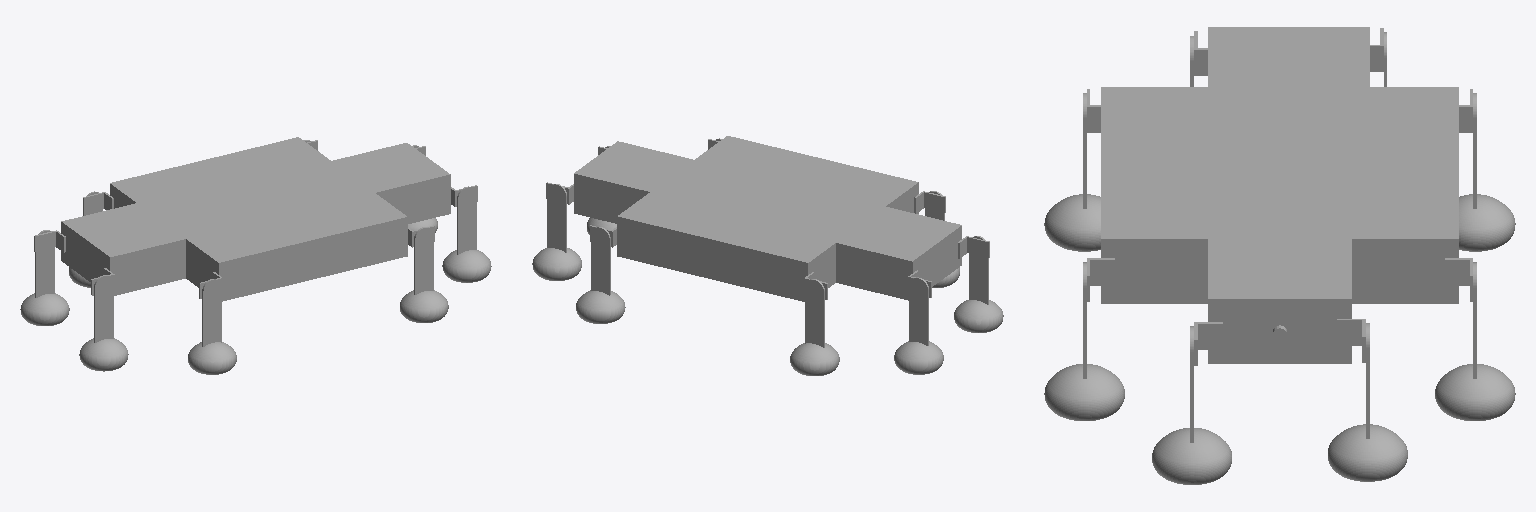
--- Render facts (derived) ---
Views: 3 orthographic renders of the robot side by side, from view 1: azimuth 30°, elevation 25°; view 2: azimuth 150°, elevation 25°; view 3: azimuth 270°, elevation 25°.
Robot: spider — 17 links, 16 joints (16 continuous); root link base_link; default pose: all joints at 0.
Links seen in each view (by area): view 1: base_link, Ncalf_5, Ncalf_4, Ncalf_6, Ncalf_1, Pcalf_4, Nlink_board_2; view 2: base_link, Pcalf_4, Pcalf_1, Pcalf_3, Pcalf_2, Ncalf_6, Plink_board_3, Plink_board_4; view 3: base_link, Pcalf_1, Pcalf_2, Ncalf_4, Ncalf_1, Ncalf_5, Pcalf_3, Nlink_board_3, Plink_board_1, Plink_board_2, Nlink_board_4.
Boxes of the visible links, x1=… form: base_link: x1=61, y1=137, x2=454, y2=301; Ncalf_5: x1=188, y1=279, x2=236, y2=374; Ncalf_4: x1=400, y1=227, x2=448, y2=322; Ncalf_6: x1=79, y1=275, x2=128, y2=371; Ncalf_1: x1=442, y1=186, x2=491, y2=282; Pcalf_4: x1=20, y1=230, x2=69, y2=325; Nlink_board_2: x1=34, y1=230, x2=65, y2=252; base_link: x1=569, y1=136, x2=961, y2=301; Pcalf_4: x1=894, y1=277, x2=943, y2=374; Pcalf_1: x1=532, y1=184, x2=581, y2=280; Pcalf_3: x1=790, y1=279, x2=839, y2=375; Pcalf_2: x1=576, y1=227, x2=625, y2=323; Ncalf_6: x1=954, y1=236, x2=1003, y2=332; Plink_board_3: x1=914, y1=191, x2=945, y2=213; Plink_board_4: x1=958, y1=236, x2=989, y2=258; base_link: x1=1087, y1=27, x2=1472, y2=363; Pcalf_1: x1=1328, y1=323, x2=1407, y2=481; Pcalf_2: x1=1435, y1=262, x2=1515, y2=420; Ncalf_4: x1=1044, y1=262, x2=1124, y2=420; Ncalf_1: x1=1152, y1=326, x2=1231, y2=484; Ncalf_5: x1=1044, y1=93, x2=1100, y2=251; Pcalf_3: x1=1459, y1=93, x2=1515, y2=251; Nlink_board_3: x1=1194, y1=322, x2=1222, y2=365; Plink_board_1: x1=1337, y1=319, x2=1365, y2=362; Plink_board_2: x1=1445, y1=258, x2=1472, y2=301; Nlink_board_4: x1=1087, y1=258, x2=1114, y2=301.
Bounding box of the posed robot: 1.07 × 0.6574 × 0.255 m (x, y, z).
Meshes: 17 distinct files referenced, 17 mesh visuals loaded (17 binary STL).

The robot description file, URDF, robot "spider":
<?xml version="1.0" ?>
<!-- =================================================================================== -->
<!-- |    This document was autogenerated by xacro from urdf/spider.xacro              | -->
<!-- |    EDITING THIS FILE BY HAND IS NOT RECOMMENDED                                 | -->
<!-- =================================================================================== -->
<robot xmlns:xacro="http://www.ros.org/wiki/xacro" name="spider">
  <material name="silver">
    <color rgba="0.700 0.700 0.700 1.000"/>
  </material>
  <transmission name="Revolute 1_tran">
    <type>transmission_interface/SimpleTransmission</type>
    <joint name="Revolute 1">
      <hardwareInterface>hardware_interface/EffortJointInterface</hardwareInterface>
    </joint>
    <actuator name="Revolute 1_actr">
      <hardwareInterface>hardware_interface/EffortJointInterface</hardwareInterface>
      <mechanicalReduction>1</mechanicalReduction>
    </actuator>
  </transmission>
  <transmission name="Revolute 2_tran">
    <type>transmission_interface/SimpleTransmission</type>
    <joint name="Revolute 2">
      <hardwareInterface>hardware_interface/EffortJointInterface</hardwareInterface>
    </joint>
    <actuator name="Revolute 2_actr">
      <hardwareInterface>hardware_interface/EffortJointInterface</hardwareInterface>
      <mechanicalReduction>1</mechanicalReduction>
    </actuator>
  </transmission>
  <transmission name="Revolute 3_tran">
    <type>transmission_interface/SimpleTransmission</type>
    <joint name="Revolute 3">
      <hardwareInterface>hardware_interface/EffortJointInterface</hardwareInterface>
    </joint>
    <actuator name="Revolute 3_actr">
      <hardwareInterface>hardware_interface/EffortJointInterface</hardwareInterface>
      <mechanicalReduction>1</mechanicalReduction>
    </actuator>
  </transmission>
  <transmission name="Revolute 4_tran">
    <type>transmission_interface/SimpleTransmission</type>
    <joint name="Revolute 4">
      <hardwareInterface>hardware_interface/EffortJointInterface</hardwareInterface>
    </joint>
    <actuator name="Revolute 4_actr">
      <hardwareInterface>hardware_interface/EffortJointInterface</hardwareInterface>
      <mechanicalReduction>1</mechanicalReduction>
    </actuator>
  </transmission>
  <transmission name="Revolute 5_tran">
    <type>transmission_interface/SimpleTransmission</type>
    <joint name="Revolute 5">
      <hardwareInterface>hardware_interface/EffortJointInterface</hardwareInterface>
    </joint>
    <actuator name="Revolute 5_actr">
      <hardwareInterface>hardware_interface/EffortJointInterface</hardwareInterface>
      <mechanicalReduction>1</mechanicalReduction>
    </actuator>
  </transmission>
  <transmission name="Revolute 6_tran">
    <type>transmission_interface/SimpleTransmission</type>
    <joint name="Revolute 6">
      <hardwareInterface>hardware_interface/EffortJointInterface</hardwareInterface>
    </joint>
    <actuator name="Revolute 6_actr">
      <hardwareInterface>hardware_interface/EffortJointInterface</hardwareInterface>
      <mechanicalReduction>1</mechanicalReduction>
    </actuator>
  </transmission>
  <transmission name="Revolute 7_tran">
    <type>transmission_interface/SimpleTransmission</type>
    <joint name="Revolute 7">
      <hardwareInterface>hardware_interface/EffortJointInterface</hardwareInterface>
    </joint>
    <actuator name="Revolute 7_actr">
      <hardwareInterface>hardware_interface/EffortJointInterface</hardwareInterface>
      <mechanicalReduction>1</mechanicalReduction>
    </actuator>
  </transmission>
  <transmission name="Revolute 8_tran">
    <type>transmission_interface/SimpleTransmission</type>
    <joint name="Revolute 8">
      <hardwareInterface>hardware_interface/EffortJointInterface</hardwareInterface>
    </joint>
    <actuator name="Revolute 8_actr">
      <hardwareInterface>hardware_interface/EffortJointInterface</hardwareInterface>
      <mechanicalReduction>1</mechanicalReduction>
    </actuator>
  </transmission>
  <transmission name="Revolute 9_tran">
    <type>transmission_interface/SimpleTransmission</type>
    <joint name="Revolute 9">
      <hardwareInterface>hardware_interface/EffortJointInterface</hardwareInterface>
    </joint>
    <actuator name="Revolute 9_actr">
      <hardwareInterface>hardware_interface/EffortJointInterface</hardwareInterface>
      <mechanicalReduction>1</mechanicalReduction>
    </actuator>
  </transmission>
  <transmission name="Revolute 10_tran">
    <type>transmission_interface/SimpleTransmission</type>
    <joint name="Revolute 10">
      <hardwareInterface>hardware_interface/EffortJointInterface</hardwareInterface>
    </joint>
    <actuator name="Revolute 10_actr">
      <hardwareInterface>hardware_interface/EffortJointInterface</hardwareInterface>
      <mechanicalReduction>1</mechanicalReduction>
    </actuator>
  </transmission>
  <transmission name="Revolute 11_tran">
    <type>transmission_interface/SimpleTransmission</type>
    <joint name="Revolute 11">
      <hardwareInterface>hardware_interface/EffortJointInterface</hardwareInterface>
    </joint>
    <actuator name="Revolute 11_actr">
      <hardwareInterface>hardware_interface/EffortJointInterface</hardwareInterface>
      <mechanicalReduction>1</mechanicalReduction>
    </actuator>
  </transmission>
  <transmission name="Revolute 12_tran">
    <type>transmission_interface/SimpleTransmission</type>
    <joint name="Revolute 12">
      <hardwareInterface>hardware_interface/EffortJointInterface</hardwareInterface>
    </joint>
    <actuator name="Revolute 12_actr">
      <hardwareInterface>hardware_interface/EffortJointInterface</hardwareInterface>
      <mechanicalReduction>1</mechanicalReduction>
    </actuator>
  </transmission>
  <transmission name="Revolute 13_tran">
    <type>transmission_interface/SimpleTransmission</type>
    <joint name="Revolute 13">
      <hardwareInterface>hardware_interface/EffortJointInterface</hardwareInterface>
    </joint>
    <actuator name="Revolute 13_actr">
      <hardwareInterface>hardware_interface/EffortJointInterface</hardwareInterface>
      <mechanicalReduction>1</mechanicalReduction>
    </actuator>
  </transmission>
  <transmission name="Revolute 14_tran">
    <type>transmission_interface/SimpleTransmission</type>
    <joint name="Revolute 14">
      <hardwareInterface>hardware_interface/EffortJointInterface</hardwareInterface>
    </joint>
    <actuator name="Revolute 14_actr">
      <hardwareInterface>hardware_interface/EffortJointInterface</hardwareInterface>
      <mechanicalReduction>1</mechanicalReduction>
    </actuator>
  </transmission>
  <transmission name="Revolute 15_tran">
    <type>transmission_interface/SimpleTransmission</type>
    <joint name="Revolute 15">
      <hardwareInterface>hardware_interface/EffortJointInterface</hardwareInterface>
    </joint>
    <actuator name="Revolute 15_actr">
      <hardwareInterface>hardware_interface/EffortJointInterface</hardwareInterface>
      <mechanicalReduction>1</mechanicalReduction>
    </actuator>
  </transmission>
  <transmission name="Revolute 16_tran">
    <type>transmission_interface/SimpleTransmission</type>
    <joint name="Revolute 16">
      <hardwareInterface>hardware_interface/EffortJointInterface</hardwareInterface>
    </joint>
    <actuator name="Revolute 16_actr">
      <hardwareInterface>hardware_interface/EffortJointInterface</hardwareInterface>
      <mechanicalReduction>1</mechanicalReduction>
    </actuator>
  </transmission>
  <gazebo>
    <plugin name="control" filename="libgazebo_ros_control.so"/>
  </gazebo>
  <gazebo reference="base_link">
    <material>Gazebo/Silver</material>
    <mu1>0.2</mu1>
    <mu2>0.2</mu2>
    <selfCollide>true</selfCollide>
    <gravity>true</gravity>
  </gazebo>
  <gazebo reference="Plink_board_1">
    <material>Gazebo/Silver</material>
    <mu1>0.2</mu1>
    <mu2>0.2</mu2>
    <selfCollide>true</selfCollide>
  </gazebo>
  <gazebo reference="Plink_board_2">
    <material>Gazebo/Silver</material>
    <mu1>0.2</mu1>
    <mu2>0.2</mu2>
    <selfCollide>true</selfCollide>
  </gazebo>
  <gazebo reference="Nlink_board_1">
    <material>Gazebo/Silver</material>
    <mu1>0.2</mu1>
    <mu2>0.2</mu2>
    <selfCollide>true</selfCollide>
  </gazebo>
  <gazebo reference="Nlink_board_2">
    <material>Gazebo/Silver</material>
    <mu1>0.2</mu1>
    <mu2>0.2</mu2>
    <selfCollide>true</selfCollide>
  </gazebo>
  <gazebo reference="Nlink_board_3">
    <material>Gazebo/Silver</material>
    <mu1>0.2</mu1>
    <mu2>0.2</mu2>
    <selfCollide>true</selfCollide>
  </gazebo>
  <gazebo reference="Nlink_board_4">
    <material>Gazebo/Silver</material>
    <mu1>0.2</mu1>
    <mu2>0.2</mu2>
    <selfCollide>true</selfCollide>
  </gazebo>
  <gazebo reference="Plink_board_3">
    <material>Gazebo/Silver</material>
    <mu1>0.2</mu1>
    <mu2>0.2</mu2>
    <selfCollide>true</selfCollide>
  </gazebo>
  <gazebo reference="Plink_board_4">
    <material>Gazebo/Silver</material>
    <mu1>0.2</mu1>
    <mu2>0.2</mu2>
    <selfCollide>true</selfCollide>
  </gazebo>
  <gazebo reference="Pcalf_1">
    <material>Gazebo/Silver</material>
    <mu1>0.2</mu1>
    <mu2>0.2</mu2>
    <selfCollide>true</selfCollide>
  </gazebo>
  <gazebo reference="Pcalf_2">
    <material>Gazebo/Silver</material>
    <mu1>0.2</mu1>
    <mu2>0.2</mu2>
    <selfCollide>true</selfCollide>
  </gazebo>
  <gazebo reference="Pcalf_3">
    <material>Gazebo/Silver</material>
    <mu1>0.2</mu1>
    <mu2>0.2</mu2>
    <selfCollide>true</selfCollide>
  </gazebo>
  <gazebo reference="Pcalf_4">
    <material>Gazebo/Silver</material>
    <mu1>0.2</mu1>
    <mu2>0.2</mu2>
    <selfCollide>true</selfCollide>
  </gazebo>
  <gazebo reference="Ncalf_1">
    <material>Gazebo/Silver</material>
    <mu1>0.2</mu1>
    <mu2>0.2</mu2>
    <selfCollide>true</selfCollide>
  </gazebo>
  <gazebo reference="Ncalf_4">
    <material>Gazebo/Silver</material>
    <mu1>0.2</mu1>
    <mu2>0.2</mu2>
    <selfCollide>true</selfCollide>
  </gazebo>
  <gazebo reference="Ncalf_5">
    <material>Gazebo/Silver</material>
    <mu1>0.2</mu1>
    <mu2>0.2</mu2>
    <selfCollide>true</selfCollide>
  </gazebo>
  <gazebo reference="Ncalf_6">
    <material>Gazebo/Silver</material>
    <mu1>0.2</mu1>
    <mu2>0.2</mu2>
    <selfCollide>true</selfCollide>
  </gazebo>
  <link name="base_link">
    <inertial>
      <origin xyz="-0.0051807055685298845 0.0016789525525093716 0.04999999522434671" rpy="0 0 0"/>
      <mass value="263.0006663023306"/>
      <inertia ixx="4.566198" iyy="12.702097" izz="16.830003" ixy="0.152261" iyz="-0.0" ixz="0.0"/>
    </inertial>
    <visual>
      <origin xyz="0 0 0" rpy="0 0 0"/>
      <geometry>
        <mesh filename="package://spider_description/meshes/base_link.stl" scale="0.001 0.001 0.001"/>
      </geometry>
      <material name="silver"/>
    </visual>
    <collision>
      <origin xyz="0 0 0" rpy="0 0 0"/>
      <geometry>
        <mesh filename="package://spider_description/meshes/base_link.stl" scale="0.001 0.001 0.001"/>
      </geometry>
    </collision>
  </link>
  <link name="Plink_board_1">
    <inertial>
      <origin xyz="0.019878880406234756 0.010141771791210993 0.0" rpy="0 0 0"/>
      <mass value="0.14930413438956674"/>
      <inertia ixx="4e-05" iyy="7.5e-05" izz="7.4e-05" ixy="-1.9e-05" iyz="0.0" ixz="0.0"/>
    </inertial>
    <visual>
      <origin xyz="-0.45001 -0.1 -0.05" rpy="0 0 0"/>
      <geometry>
        <mesh filename="package://spider_description/meshes/Plink_board_1.stl" scale="0.001 0.001 0.001"/>
      </geometry>
      <material name="silver"/>
    </visual>
    <collision>
      <origin xyz="-0.45001 -0.1 -0.05" rpy="0 0 0"/>
      <geometry>
        <mesh filename="package://spider_description/meshes/Plink_board_1.stl" scale="0.001 0.001 0.001"/>
      </geometry>
    </collision>
  </link>
  <link name="Plink_board_2">
    <inertial>
      <origin xyz="0.019878880406234756 0.010141771791210952 -4.85722573273506e-17" rpy="0 0 0"/>
      <mass value="0.14930413438956674"/>
      <inertia ixx="4e-05" iyy="7.5e-05" izz="7.4e-05" ixy="-1.9e-05" iyz="-0.0" ixz="-0.0"/>
    </inertial>
    <visual>
      <origin xyz="-0.25001 -0.25 -0.05" rpy="0 0 0"/>
      <geometry>
        <mesh filename="package://spider_description/meshes/Plink_board_2.stl" scale="0.001 0.001 0.001"/>
      </geometry>
      <material name="silver"/>
    </visual>
    <collision>
      <origin xyz="-0.25001 -0.25 -0.05" rpy="0 0 0"/>
      <geometry>
        <mesh filename="package://spider_description/meshes/Plink_board_2.stl" scale="0.001 0.001 0.001"/>
      </geometry>
    </collision>
  </link>
  <link name="Nlink_board_1">
    <inertial>
      <origin xyz="-0.019878880691994172 0.010141771942031585 -1.3877787807814457e-17" rpy="0 0 0"/>
      <mass value="0.14930413883458316"/>
      <inertia ixx="4e-05" iyy="7.5e-05" izz="7.4e-05" ixy="1.9e-05" iyz="-0.0" ixz="0.0"/>
    </inertial>
    <visual>
      <origin xyz="0.25001 -0.25 -0.05" rpy="0 0 0"/>
      <geometry>
        <mesh filename="package://spider_description/meshes/Nlink_board_1.stl" scale="0.001 0.001 0.001"/>
      </geometry>
      <material name="silver"/>
    </visual>
    <collision>
      <origin xyz="0.25001 -0.25 -0.05" rpy="0 0 0"/>
      <geometry>
        <mesh filename="package://spider_description/meshes/Nlink_board_1.stl" scale="0.001 0.001 0.001"/>
      </geometry>
    </collision>
  </link>
  <link name="Nlink_board_2">
    <inertial>
      <origin xyz="-0.01987888069199395 0.010141771942031613 1.3877787807814457e-17" rpy="0 0 0"/>
      <mass value="0.14930413883458316"/>
      <inertia ixx="4e-05" iyy="7.5e-05" izz="7.4e-05" ixy="1.9e-05" iyz="0.0" ixz="0.0"/>
    </inertial>
    <visual>
      <origin xyz="0.45001 -0.125 -0.05" rpy="0 0 0"/>
      <geometry>
        <mesh filename="package://spider_description/meshes/Nlink_board_2.stl" scale="0.001 0.001 0.001"/>
      </geometry>
      <material name="silver"/>
    </visual>
    <collision>
      <origin xyz="0.45001 -0.125 -0.05" rpy="0 0 0"/>
      <geometry>
        <mesh filename="package://spider_description/meshes/Nlink_board_2.stl" scale="0.001 0.001 0.001"/>
      </geometry>
    </collision>
  </link>
  <link name="Nlink_board_3">
    <inertial>
      <origin xyz="0.019878880691994005 -0.010141771942031613 0.0" rpy="0 0 0"/>
      <mass value="0.14930413883458316"/>
      <inertia ixx="4e-05" iyy="7.5e-05" izz="7.4e-05" ixy="1.9e-05" iyz="0.0" ixz="-0.0"/>
    </inertial>
    <visual>
      <origin xyz="-0.45001 0.1 -0.045" rpy="0 0 0"/>
      <geometry>
        <mesh filename="package://spider_description/meshes/Nlink_board_3.stl" scale="0.001 0.001 0.001"/>
      </geometry>
      <material name="silver"/>
    </visual>
    <collision>
      <origin xyz="-0.45001 0.1 -0.045" rpy="0 0 0"/>
      <geometry>
        <mesh filename="package://spider_description/meshes/Nlink_board_3.stl" scale="0.001 0.001 0.001"/>
      </geometry>
    </collision>
  </link>
  <link name="Nlink_board_4">
    <inertial>
      <origin xyz="0.019878880691994172 -0.01014177194203153 -1.3877787807814457e-17" rpy="0 0 0"/>
      <mass value="0.14930413883458316"/>
      <inertia ixx="4e-05" iyy="7.5e-05" izz="7.4e-05" ixy="1.9e-05" iyz="0.0" ixz="-0.0"/>
    </inertial>
    <visual>
      <origin xyz="-0.25001 0.25 -0.05" rpy="0 0 0"/>
      <geometry>
        <mesh filename="package://spider_description/meshes/Nlink_board_4.stl" scale="0.001 0.001 0.001"/>
      </geometry>
      <material name="silver"/>
    </visual>
    <collision>
      <origin xyz="-0.25001 0.25 -0.05" rpy="0 0 0"/>
      <geometry>
        <mesh filename="package://spider_description/meshes/Nlink_board_4.stl" scale="0.001 0.001 0.001"/>
      </geometry>
    </collision>
  </link>
  <link name="Plink_board_3">
    <inertial>
      <origin xyz="-0.019878880406234756 -0.010141771791210952 -4.85722573273506e-17" rpy="0 0 0"/>
      <mass value="0.14930413438956674"/>
      <inertia ixx="4e-05" iyy="7.5e-05" izz="7.4e-05" ixy="-1.9e-05" iyz="0.0" ixz="0.0"/>
    </inertial>
    <visual>
      <origin xyz="0.25001 0.25 -0.05" rpy="0 0 0"/>
      <geometry>
        <mesh filename="package://spider_description/meshes/Plink_board_3.stl" scale="0.001 0.001 0.001"/>
      </geometry>
      <material name="silver"/>
    </visual>
    <collision>
      <origin xyz="0.25001 0.25 -0.05" rpy="0 0 0"/>
      <geometry>
        <mesh filename="package://spider_description/meshes/Plink_board_3.stl" scale="0.001 0.001 0.001"/>
      </geometry>
    </collision>
  </link>
  <link name="Plink_board_4">
    <inertial>
      <origin xyz="-0.019878880406234534 -0.01014177179121098 -6.938893903907228e-18" rpy="0 0 0"/>
      <mass value="0.14930413438956674"/>
      <inertia ixx="4e-05" iyy="7.5e-05" izz="7.4e-05" ixy="-1.9e-05" iyz="0.0" ixz="0.0"/>
    </inertial>
    <visual>
      <origin xyz="0.45001 0.1 -0.045" rpy="0 0 0"/>
      <geometry>
        <mesh filename="package://spider_description/meshes/Plink_board_4.stl" scale="0.001 0.001 0.001"/>
      </geometry>
      <material name="silver"/>
    </visual>
    <collision>
      <origin xyz="0.45001 0.1 -0.045" rpy="0 0 0"/>
      <geometry>
        <mesh filename="package://spider_description/meshes/Plink_board_4.stl" scale="0.001 0.001 0.001"/>
      </geometry>
    </collision>
  </link>
  <link name="Pcalf_1">
    <inertial>
      <origin xyz="-5.55138551794343e-09 0.002499549328502923 -0.1307761990337935" rpy="0 0 0"/>
      <mass value="0.8567715125260319"/>
      <inertia ixx="0.003554" iyy="0.003641" izz="0.00064" ixy="0.0" iyz="0.0" ixz="-0.0"/>
    </inertial>
    <visual>
      <origin xyz="-0.48001 -0.12001 -0.05" rpy="0 0 0"/>
      <geometry>
        <mesh filename="package://spider_description/meshes/Pcalf_1.stl" scale="0.001 0.001 0.001"/>
      </geometry>
      <material name="silver"/>
    </visual>
    <collision>
      <origin xyz="-0.48001 -0.12001 -0.05" rpy="0 0 0"/>
      <geometry>
        <mesh filename="package://spider_description/meshes/Pcalf_1.stl" scale="0.001 0.001 0.001"/>
      </geometry>
    </collision>
  </link>
  <link name="Pcalf_2">
    <inertial>
      <origin xyz="-5.55138551794343e-09 0.0024995493285029924 -0.1307761990337935" rpy="0 0 0"/>
      <mass value="0.8567715125260319"/>
      <inertia ixx="0.003554" iyy="0.003641" izz="0.00064" ixy="0.0" iyz="0.0" ixz="-0.0"/>
    </inertial>
    <visual>
      <origin xyz="-0.28001 -0.27001 -0.05" rpy="0 0 0"/>
      <geometry>
        <mesh filename="package://spider_description/meshes/Pcalf_2.stl" scale="0.001 0.001 0.001"/>
      </geometry>
      <material name="silver"/>
    </visual>
    <collision>
      <origin xyz="-0.28001 -0.27001 -0.05" rpy="0 0 0"/>
      <geometry>
        <mesh filename="package://spider_description/meshes/Pcalf_2.stl" scale="0.001 0.001 0.001"/>
      </geometry>
    </collision>
  </link>
  <link name="Pcalf_3">
    <inertial>
      <origin xyz="3.83634596312632e-09 0.002499549626526154 -0.1307761990337935" rpy="0 0 0"/>
      <mass value="0.8567715125260319"/>
      <inertia ixx="0.003554" iyy="0.003641" izz="0.00064" ixy="0.0" iyz="0.0" ixz="-0.0"/>
    </inertial>
    <visual>
      <origin xyz="0.28001 -0.27001 -0.05" rpy="0 0 0"/>
      <geometry>
        <mesh filename="package://spider_description/meshes/Pcalf_3.stl" scale="0.001 0.001 0.001"/>
      </geometry>
      <material name="silver"/>
    </visual>
    <collision>
      <origin xyz="0.28001 -0.27001 -0.05" rpy="0 0 0"/>
      <geometry>
        <mesh filename="package://spider_description/meshes/Pcalf_3.stl" scale="0.001 0.001 0.001"/>
      </geometry>
    </collision>
  </link>
  <link name="Pcalf_4">
    <inertial>
      <origin xyz="3.836345241481354e-09 0.0024995496265261263 -0.1307761990337935" rpy="0 0 0"/>
      <mass value="0.8567715125260319"/>
      <inertia ixx="0.003554" iyy="0.003641" izz="0.00064" ixy="0.0" iyz="0.0" ixz="-0.0"/>
    </inertial>
    <visual>
      <origin xyz="0.48001 -0.14501 -0.05" rpy="0 0 0"/>
      <geometry>
        <mesh filename="package://spider_description/meshes/Pcalf_4.stl" scale="0.001 0.001 0.001"/>
      </geometry>
      <material name="silver"/>
    </visual>
    <collision>
      <origin xyz="0.48001 -0.14501 -0.05" rpy="0 0 0"/>
      <geometry>
        <mesh filename="package://spider_description/meshes/Pcalf_4.stl" scale="0.001 0.001 0.001"/>
      </geometry>
    </collision>
  </link>
  <link name="Ncalf_1">
    <inertial>
      <origin xyz="-3.836346018637471e-09 -0.0024995496265262374 -0.1307761990337935" rpy="0 0 0"/>
      <mass value="0.8567715125260319"/>
      <inertia ixx="0.003554" iyy="0.003641" izz="0.00064" ixy="0.0" iyz="-0.0" ixz="0.0"/>
    </inertial>
    <visual>
      <origin xyz="-0.48001 0.12001 -0.045" rpy="0 0 0"/>
      <geometry>
        <mesh filename="package://spider_description/meshes/Ncalf_1.stl" scale="0.001 0.001 0.001"/>
      </geometry>
      <material name="silver"/>
    </visual>
    <collision>
      <origin xyz="-0.48001 0.12001 -0.045" rpy="0 0 0"/>
      <geometry>
        <mesh filename="package://spider_description/meshes/Ncalf_1.stl" scale="0.001 0.001 0.001"/>
      </geometry>
    </collision>
  </link>
  <link name="Ncalf_4">
    <inertial>
      <origin xyz="-3.83634596312632e-09 -0.0024995496265262096 -0.1307761990337936" rpy="0 0 0"/>
      <mass value="0.8567715125260319"/>
      <inertia ixx="0.003554" iyy="0.003641" izz="0.00064" ixy="0.0" iyz="-0.0" ixz="0.0"/>
    </inertial>
    <visual>
      <origin xyz="-0.28001 0.27001 -0.05" rpy="0 0 0"/>
      <geometry>
        <mesh filename="package://spider_description/meshes/Ncalf_4.stl" scale="0.001 0.001 0.001"/>
      </geometry>
      <material name="silver"/>
    </visual>
    <collision>
      <origin xyz="-0.28001 0.27001 -0.05" rpy="0 0 0"/>
      <geometry>
        <mesh filename="package://spider_description/meshes/Ncalf_4.stl" scale="0.001 0.001 0.001"/>
      </geometry>
    </collision>
  </link>
  <link name="Ncalf_5">
    <inertial>
      <origin xyz="5.55138551794343e-09 -0.002499549328503048 -0.1307761990337935" rpy="0 0 0"/>
      <mass value="0.8567715125260319"/>
      <inertia ixx="0.003554" iyy="0.003641" izz="0.00064" ixy="0.0" iyz="-0.0" ixz="0.0"/>
    </inertial>
    <visual>
      <origin xyz="0.28001 0.27001 -0.05" rpy="0 0 0"/>
      <geometry>
        <mesh filename="package://spider_description/meshes/Ncalf_5.stl" scale="0.001 0.001 0.001"/>
      </geometry>
      <material name="silver"/>
    </visual>
    <collision>
      <origin xyz="0.28001 0.27001 -0.05" rpy="0 0 0"/>
      <geometry>
        <mesh filename="package://spider_description/meshes/Ncalf_5.stl" scale="0.001 0.001 0.001"/>
      </geometry>
    </collision>
  </link>
  <link name="Ncalf_6">
    <inertial>
      <origin xyz="5.551385628965733e-09 -0.002499549328503034 -0.1307761990337935" rpy="0 0 0"/>
      <mass value="0.8567715125260319"/>
      <inertia ixx="0.003554" iyy="0.003641" izz="0.00064" ixy="0.0" iyz="-0.0" ixz="0.0"/>
    </inertial>
    <visual>
      <origin xyz="0.48001 0.12001 -0.045" rpy="0 0 0"/>
      <geometry>
        <mesh filename="package://spider_description/meshes/Ncalf_6.stl" scale="0.001 0.001 0.001"/>
      </geometry>
      <material name="silver"/>
    </visual>
    <collision>
      <origin xyz="0.48001 0.12001 -0.045" rpy="0 0 0"/>
      <geometry>
        <mesh filename="package://spider_description/meshes/Ncalf_6.stl" scale="0.001 0.001 0.001"/>
      </geometry>
    </collision>
  </link>
  <joint name="Revolute 1" type="continuous">
    <origin xyz="0.45001 0.1 0.05" rpy="0 0 0"/>
    <parent link="base_link"/>
    <child link="Plink_board_1"/>
    <axis xyz="1.0 0.0 0.0"/>
  </joint>
  <joint name="Revolute 2" type="continuous">
    <origin xyz="0.25001 0.25 0.05" rpy="0 0 0"/>
    <parent link="base_link"/>
    <child link="Plink_board_2"/>
    <axis xyz="1.0 0.0 0.0"/>
  </joint>
  <joint name="Revolute 3" type="continuous">
    <origin xyz="-0.25001 0.25 0.05" rpy="0 0 0"/>
    <parent link="base_link"/>
    <child link="Nlink_board_1"/>
    <axis xyz="-1.0 0.0 0.0"/>
  </joint>
  <joint name="Revolute 4" type="continuous">
    <origin xyz="-0.45001 0.125 0.05" rpy="0 0 0"/>
    <parent link="base_link"/>
    <child link="Nlink_board_2"/>
    <axis xyz="-1.0 0.0 0.0"/>
  </joint>
  <joint name="Revolute 5" type="continuous">
    <origin xyz="0.45001 -0.1 0.045" rpy="0 0 0"/>
    <parent link="base_link"/>
    <child link="Nlink_board_3"/>
    <axis xyz="1.0 0.0 0.0"/>
  </joint>
  <joint name="Revolute 6" type="continuous">
    <origin xyz="0.25001 -0.25 0.05" rpy="0 0 0"/>
    <parent link="base_link"/>
    <child link="Nlink_board_4"/>
    <axis xyz="1.0 0.0 0.0"/>
  </joint>
  <joint name="Revolute 7" type="continuous">
    <origin xyz="-0.25001 -0.25 0.05" rpy="0 0 0"/>
    <parent link="base_link"/>
    <child link="Plink_board_3"/>
    <axis xyz="-1.0 0.0 0.0"/>
  </joint>
  <joint name="Revolute 8" type="continuous">
    <origin xyz="-0.45001 -0.1 0.045" rpy="0 0 0"/>
    <parent link="base_link"/>
    <child link="Plink_board_4"/>
    <axis xyz="-1.0 0.0 0.0"/>
  </joint>
  <joint name="Revolute 9" type="continuous">
    <origin xyz="0.03 0.02001 0.0" rpy="0 0 0"/>
    <parent link="Plink_board_1"/>
    <child link="Pcalf_1"/>
    <axis xyz="0.0 1.0 0.0"/>
  </joint>
  <joint name="Revolute 10" type="continuous">
    <origin xyz="0.03 0.02001 0.0" rpy="0 0 0"/>
    <parent link="Plink_board_2"/>
    <child link="Pcalf_2"/>
    <axis xyz="0.0 1.0 0.0"/>
  </joint>
  <joint name="Revolute 11" type="continuous">
    <origin xyz="-0.03 0.02001 0.0" rpy="0 0 0"/>
    <parent link="Nlink_board_1"/>
    <child link="Pcalf_3"/>
    <axis xyz="0.0 1.0 0.0"/>
  </joint>
  <joint name="Revolute 12" type="continuous">
    <origin xyz="-0.03 0.02001 0.0" rpy="0 0 0"/>
    <parent link="Nlink_board_2"/>
    <child link="Pcalf_4"/>
    <axis xyz="0.0 1.0 0.0"/>
  </joint>
  <joint name="Revolute 13" type="continuous">
    <origin xyz="0.03 -0.02001 0.0" rpy="0 0 0"/>
    <parent link="Nlink_board_3"/>
    <child link="Ncalf_1"/>
    <axis xyz="0.0 -1.0 0.0"/>
  </joint>
  <joint name="Revolute 14" type="continuous">
    <origin xyz="0.03 -0.02001 0.0" rpy="0 0 0"/>
    <parent link="Nlink_board_4"/>
    <child link="Ncalf_4"/>
    <axis xyz="0.0 -1.0 0.0"/>
  </joint>
  <joint name="Revolute 15" type="continuous">
    <origin xyz="-0.03 -0.02001 0.0" rpy="0 0 0"/>
    <parent link="Plink_board_3"/>
    <child link="Ncalf_5"/>
    <axis xyz="0.0 -1.0 0.0"/>
  </joint>
  <joint name="Revolute 16" type="continuous">
    <origin xyz="-0.03 -0.02001 0.0" rpy="0 0 0"/>
    <parent link="Plink_board_4"/>
    <child link="Ncalf_6"/>
    <axis xyz="0.0 -1.0 0.0"/>
  </joint>
</robot>
